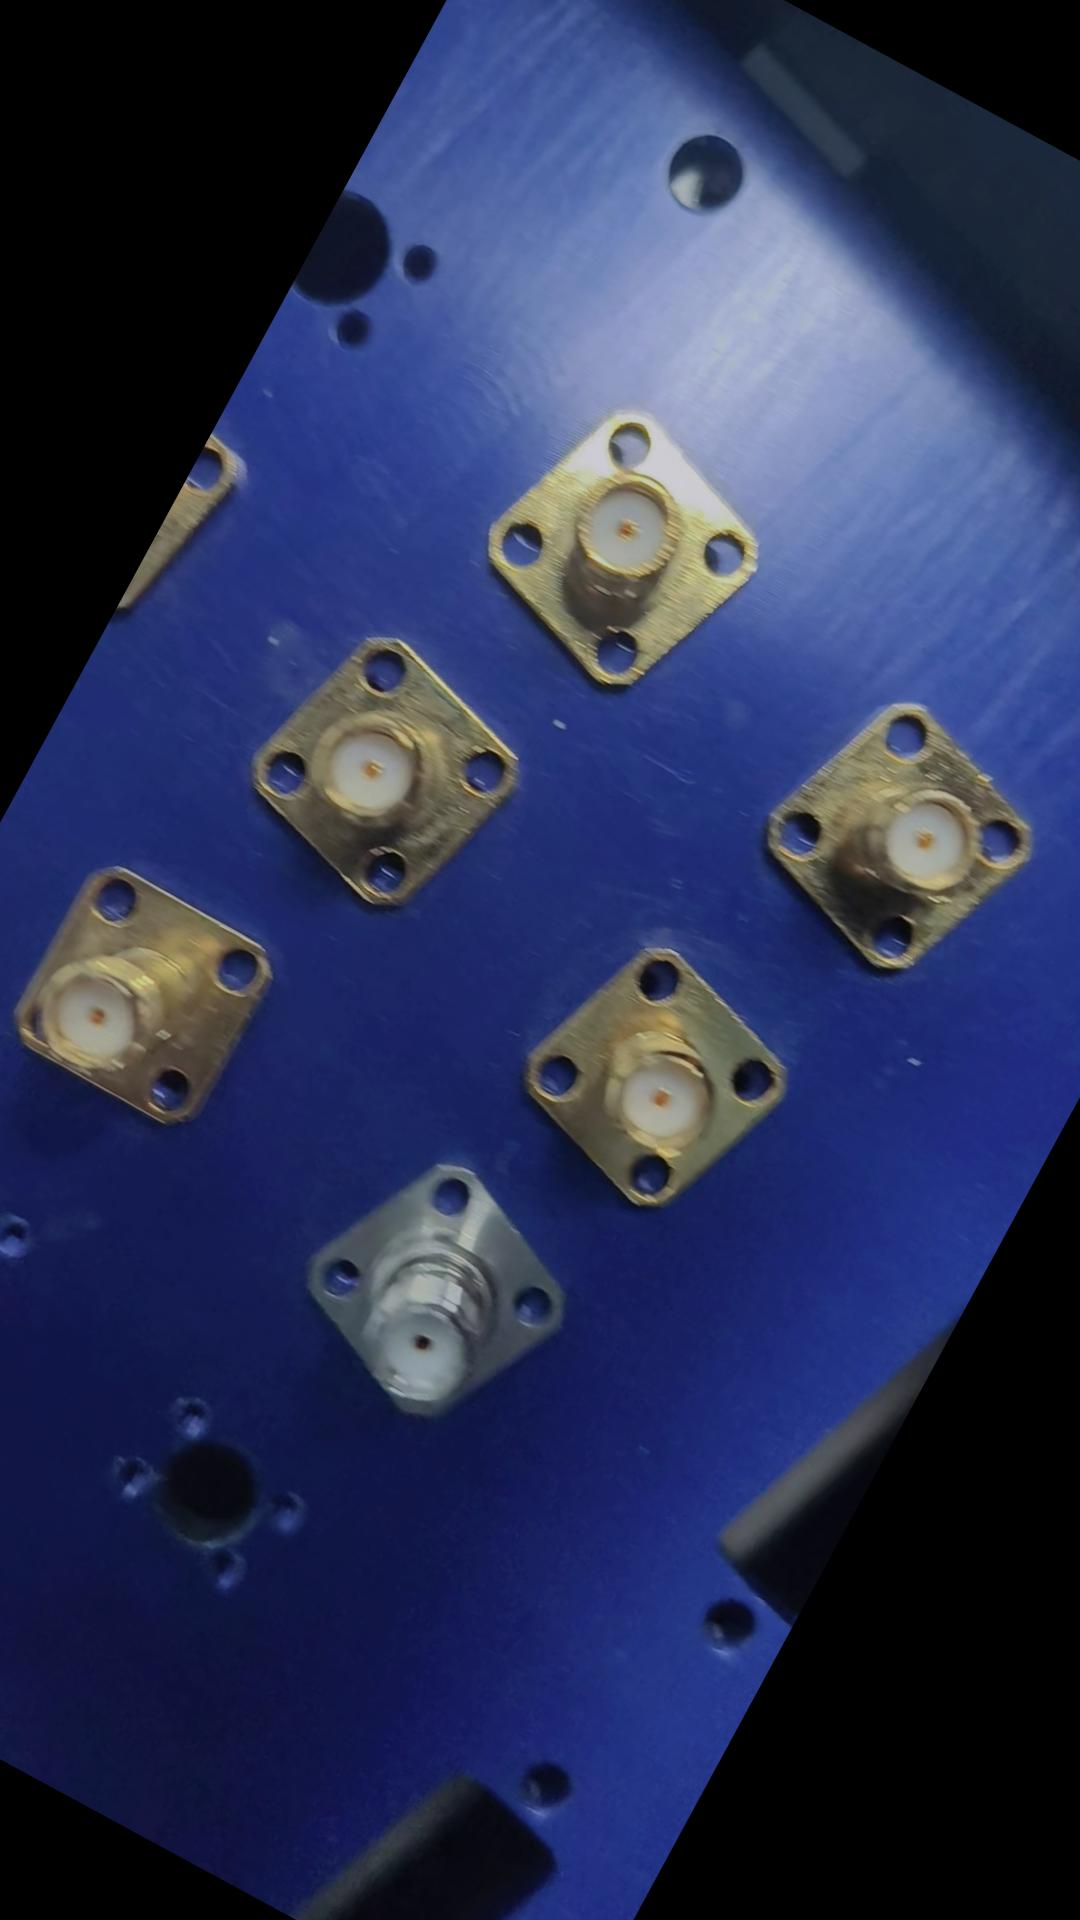SMA: (444, 369, 802, 727), (728, 662, 1077, 1010), (258, 1120, 603, 1462), (211, 603, 549, 942), (481, 909, 814, 1241)
